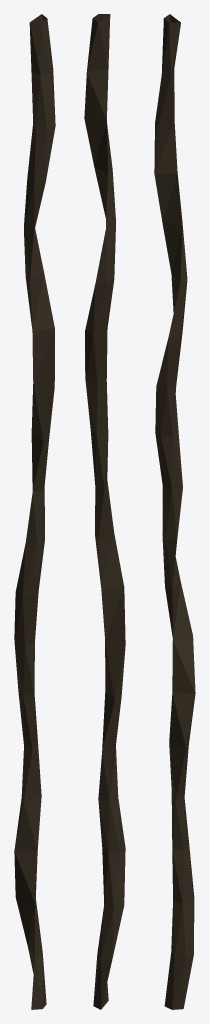
3 views of the same model, side by side, from view 1: azimuth 30°, elevation 25°; view 2: azimuth 210°, elevation 25°; view 3: azimuth 270°, elevation 25° (orthographic).
Visible parts, largest first — view 1: pCylinder450; view 2: pCylinder450; view 3: pCylinder450.
Part boxes in pixels (bbox=[...]): pCylinder450: bbox=[14, 14, 55, 1009]; pCylinder450: bbox=[84, 14, 125, 1009]; pCylinder450: bbox=[154, 14, 195, 1009].
Bounding box in the file's own units: 0.9873 × 28 × 1.06.
